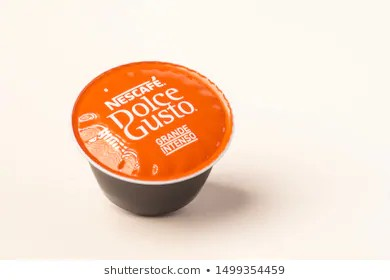nescafe-dolce: (65, 55, 239, 216)
